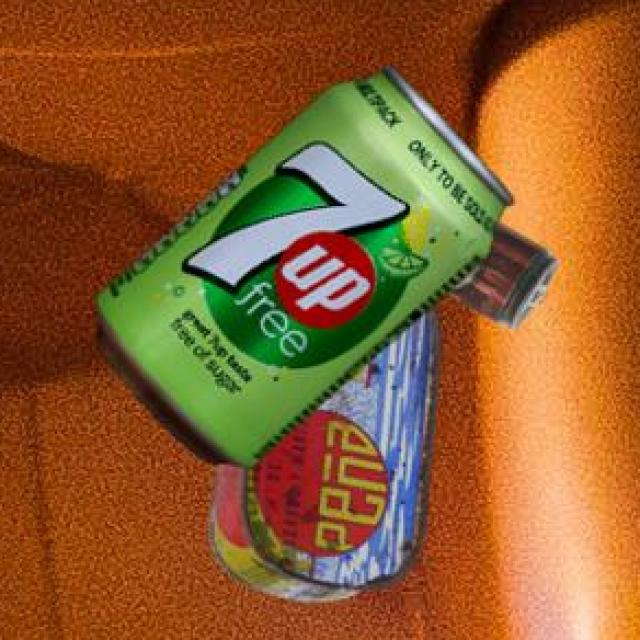logam: (100, 69, 516, 470), (214, 308, 444, 604), (450, 225, 562, 332)
